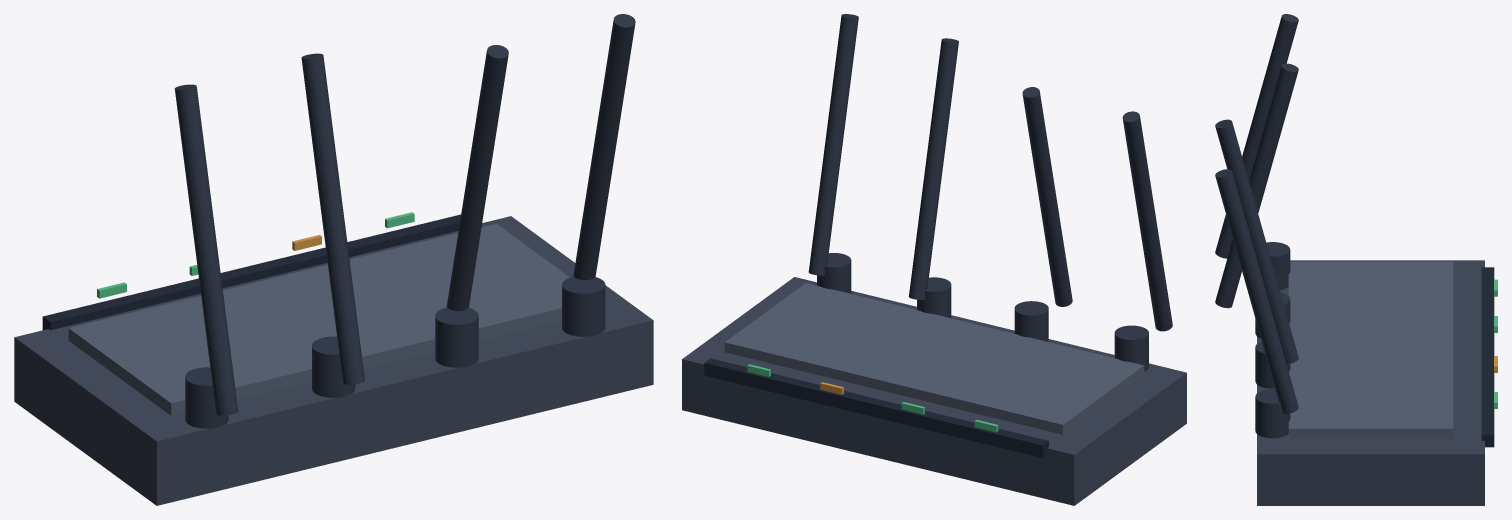
The model's file is receptor.glb.
The picture shows the model from 3 angles, left to right: view 1: azimuth 30°, elevation 25°; view 2: azimuth 150°, elevation 25°; view 3: azimuth 270°, elevation 25°; orthographic projection. The views are drawn at different scales.
Visible parts, largest first — view 1: router_body, router_top_panel, antenna_0, antenna_1, front_gloss_strip, antenna_3, antenna_2, antenna_base_2, antenna_base_3, antenna_base_0, antenna_base_1; view 2: router_body, router_top_panel, front_gloss_strip, antenna_3, antenna_2, antenna_0, antenna_1, antenna_base_0, antenna_base_1, antenna_base_3, antenna_base_2; view 3: router_top_panel, router_body, antenna_3, antenna_2, antenna_1, antenna_0, front_gloss_strip, antenna_base_3, antenna_base_0, antenna_base_2.
Part boxes in pixels (x1,y1,x2,y2): router_body: (14,216,653,505); router_top_panel: (68,223,569,415); antenna_0: (174,84,238,415); antenna_1: (301,53,364,384); front_gloss_strip: (42,214,460,330); antenna_3: (573,14,635,279); antenna_2: (446,45,508,310); antenna_base_2: (435,307,478,367); antenna_base_3: (562,276,605,336); antenna_base_0: (185,367,228,428); antenna_base_1: (312,336,355,397); router_body: (682,277,1186,505); router_top_panel: (724,283,1144,434); front_gloss_strip: (704,358,1048,457); antenna_3: (808,14,858,275); antenna_2: (909,38,958,299); antenna_0: (1122,111,1172,331); antenna_1: (1022,87,1072,306); antenna_base_0: (1114,325,1148,371); antenna_base_1: (1014,301,1048,341); antenna_base_3: (817,253,851,293); antenna_base_2: (917,277,951,317); router_top_panel: (1288,261,1453,438); router_body: (1257,260,1484,505); antenna_3: (1215,169,1298,413); antenna_2: (1215,119,1298,364); antenna_1: (1215,63,1298,308); antenna_0: (1215,14,1298,258); front_gloss_strip: (1481,267,1494,447); antenna_base_3: (1255,389,1290,438); antenna_base_0: (1266,242,1290,290); antenna_base_2: (1255,341,1290,388).
Size of the model in its own units: 1.45 by 1.11 by 0.8933.
